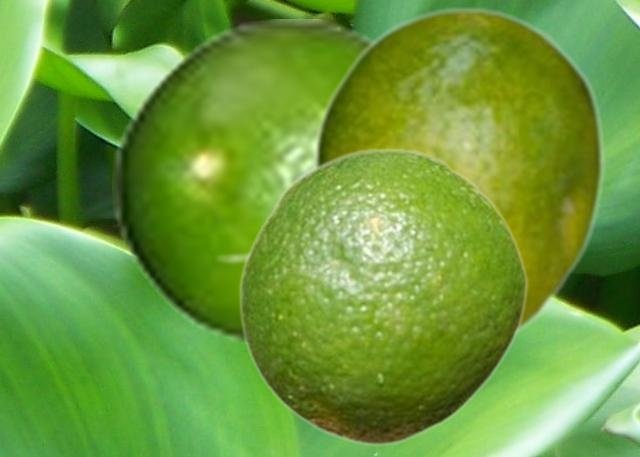calamansi: (214, 5, 604, 338), (110, 19, 380, 350), (238, 147, 527, 446)
